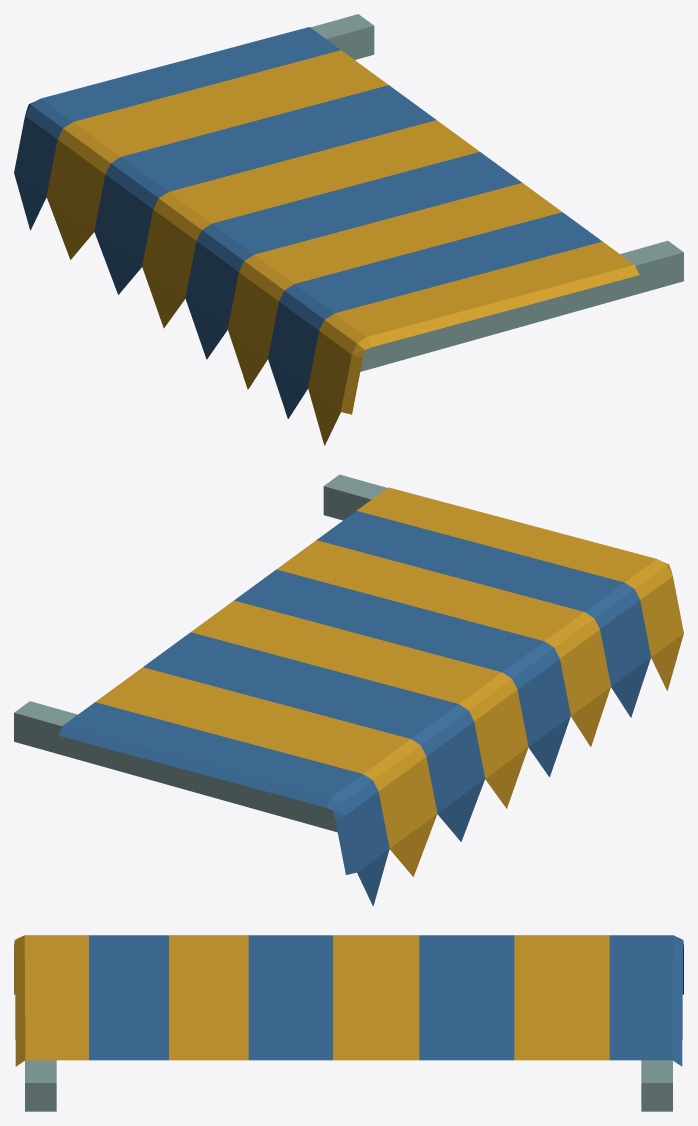
Rendered from SM_Shed_2.fbx.
3 views of the same model, one above another, from view 1: azimuth 30°, elevation 25°; view 2: azimuth 150°, elevation 25°; view 3: azimuth 270°, elevation 25° (orthographic).
Parts seen in each view (by area): view 1: SM_Shed_2_LOD0; view 2: SM_Shed_2_LOD0; view 3: SM_Shed_2_LOD0.
Part boxes in pixels (x1=…): SM_Shed_2_LOD0: x1=14, y1=14, x2=683, y2=445; SM_Shed_2_LOD0: x1=14, y1=474, x2=683, y2=905; SM_Shed_2_LOD0: x1=14, y1=935, x2=683, y2=1111.
Bounding box in the file's own units: 235 × 399 × 79.36.
1 material, 1 textured.
